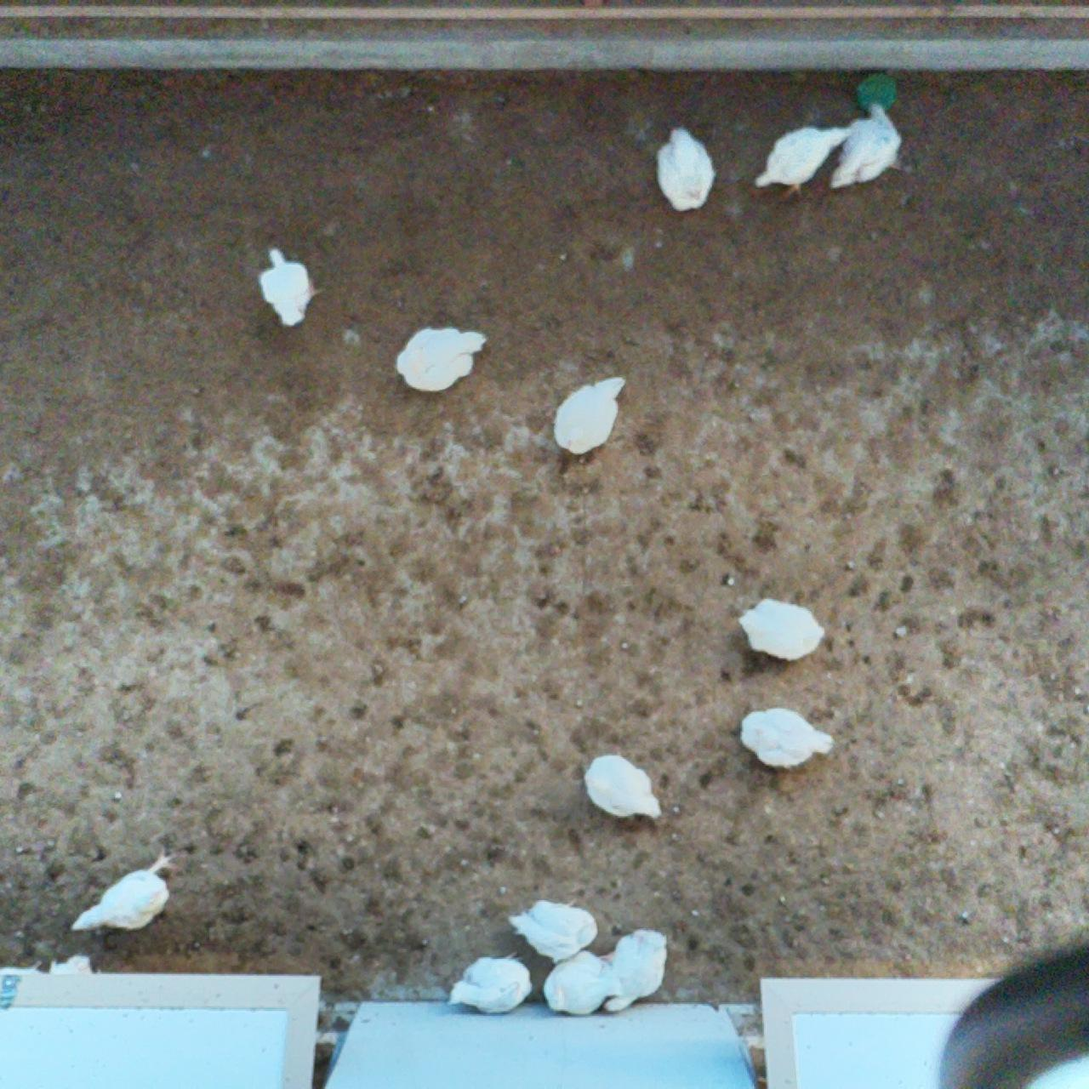chicken: (71, 851, 179, 938), (828, 93, 908, 195), (732, 700, 842, 773), (392, 321, 495, 396), (550, 371, 637, 458), (755, 124, 853, 201), (651, 125, 723, 217), (739, 599, 833, 668), (600, 926, 672, 1015), (256, 243, 327, 331), (580, 750, 667, 821), (448, 954, 535, 1022), (509, 902, 605, 962), (542, 944, 614, 1017), (27, 951, 100, 988)
